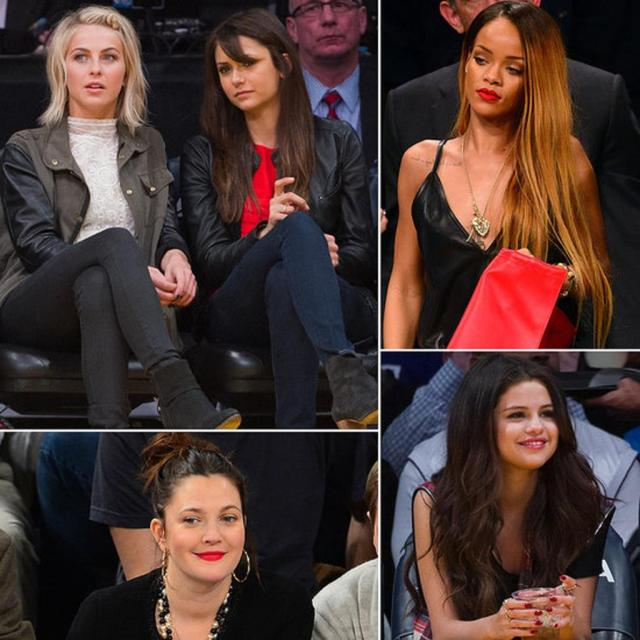Face: (151, 477, 256, 585), (456, 19, 539, 120), (206, 35, 298, 112), (58, 23, 135, 114), (496, 373, 565, 470)
